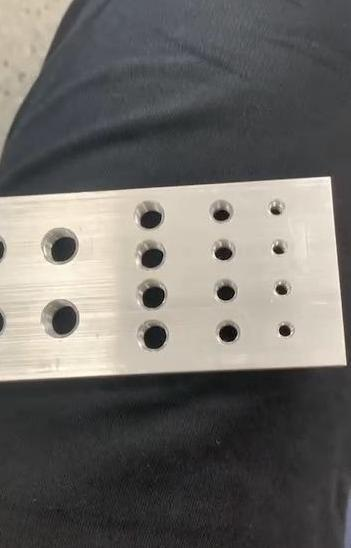hole: (40, 297, 84, 341), (40, 225, 82, 267), (132, 198, 168, 234), (134, 320, 172, 352), (133, 239, 169, 270), (134, 280, 169, 311), (206, 199, 236, 226), (212, 277, 242, 304), (210, 237, 239, 264), (215, 322, 243, 348), (0, 230, 12, 275), (264, 203, 287, 226), (266, 243, 288, 266), (272, 283, 292, 305), (276, 320, 295, 342), (0, 303, 8, 345)
